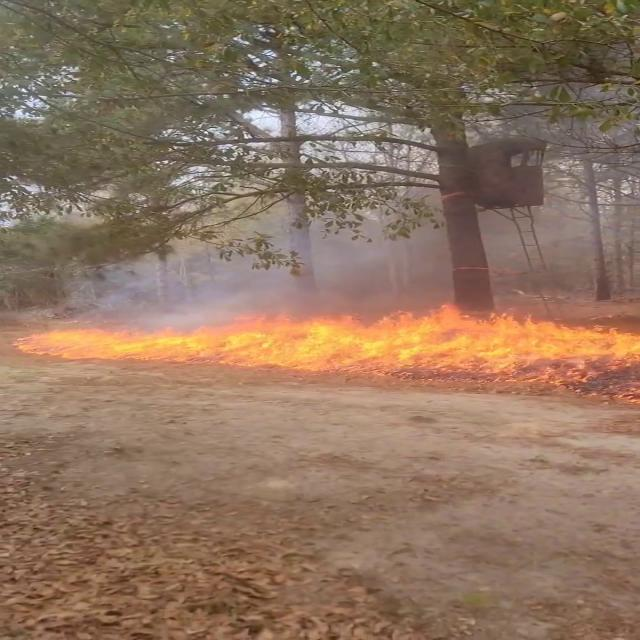Fire: (15, 300, 637, 370)
Smoke: (76, 199, 639, 319)
